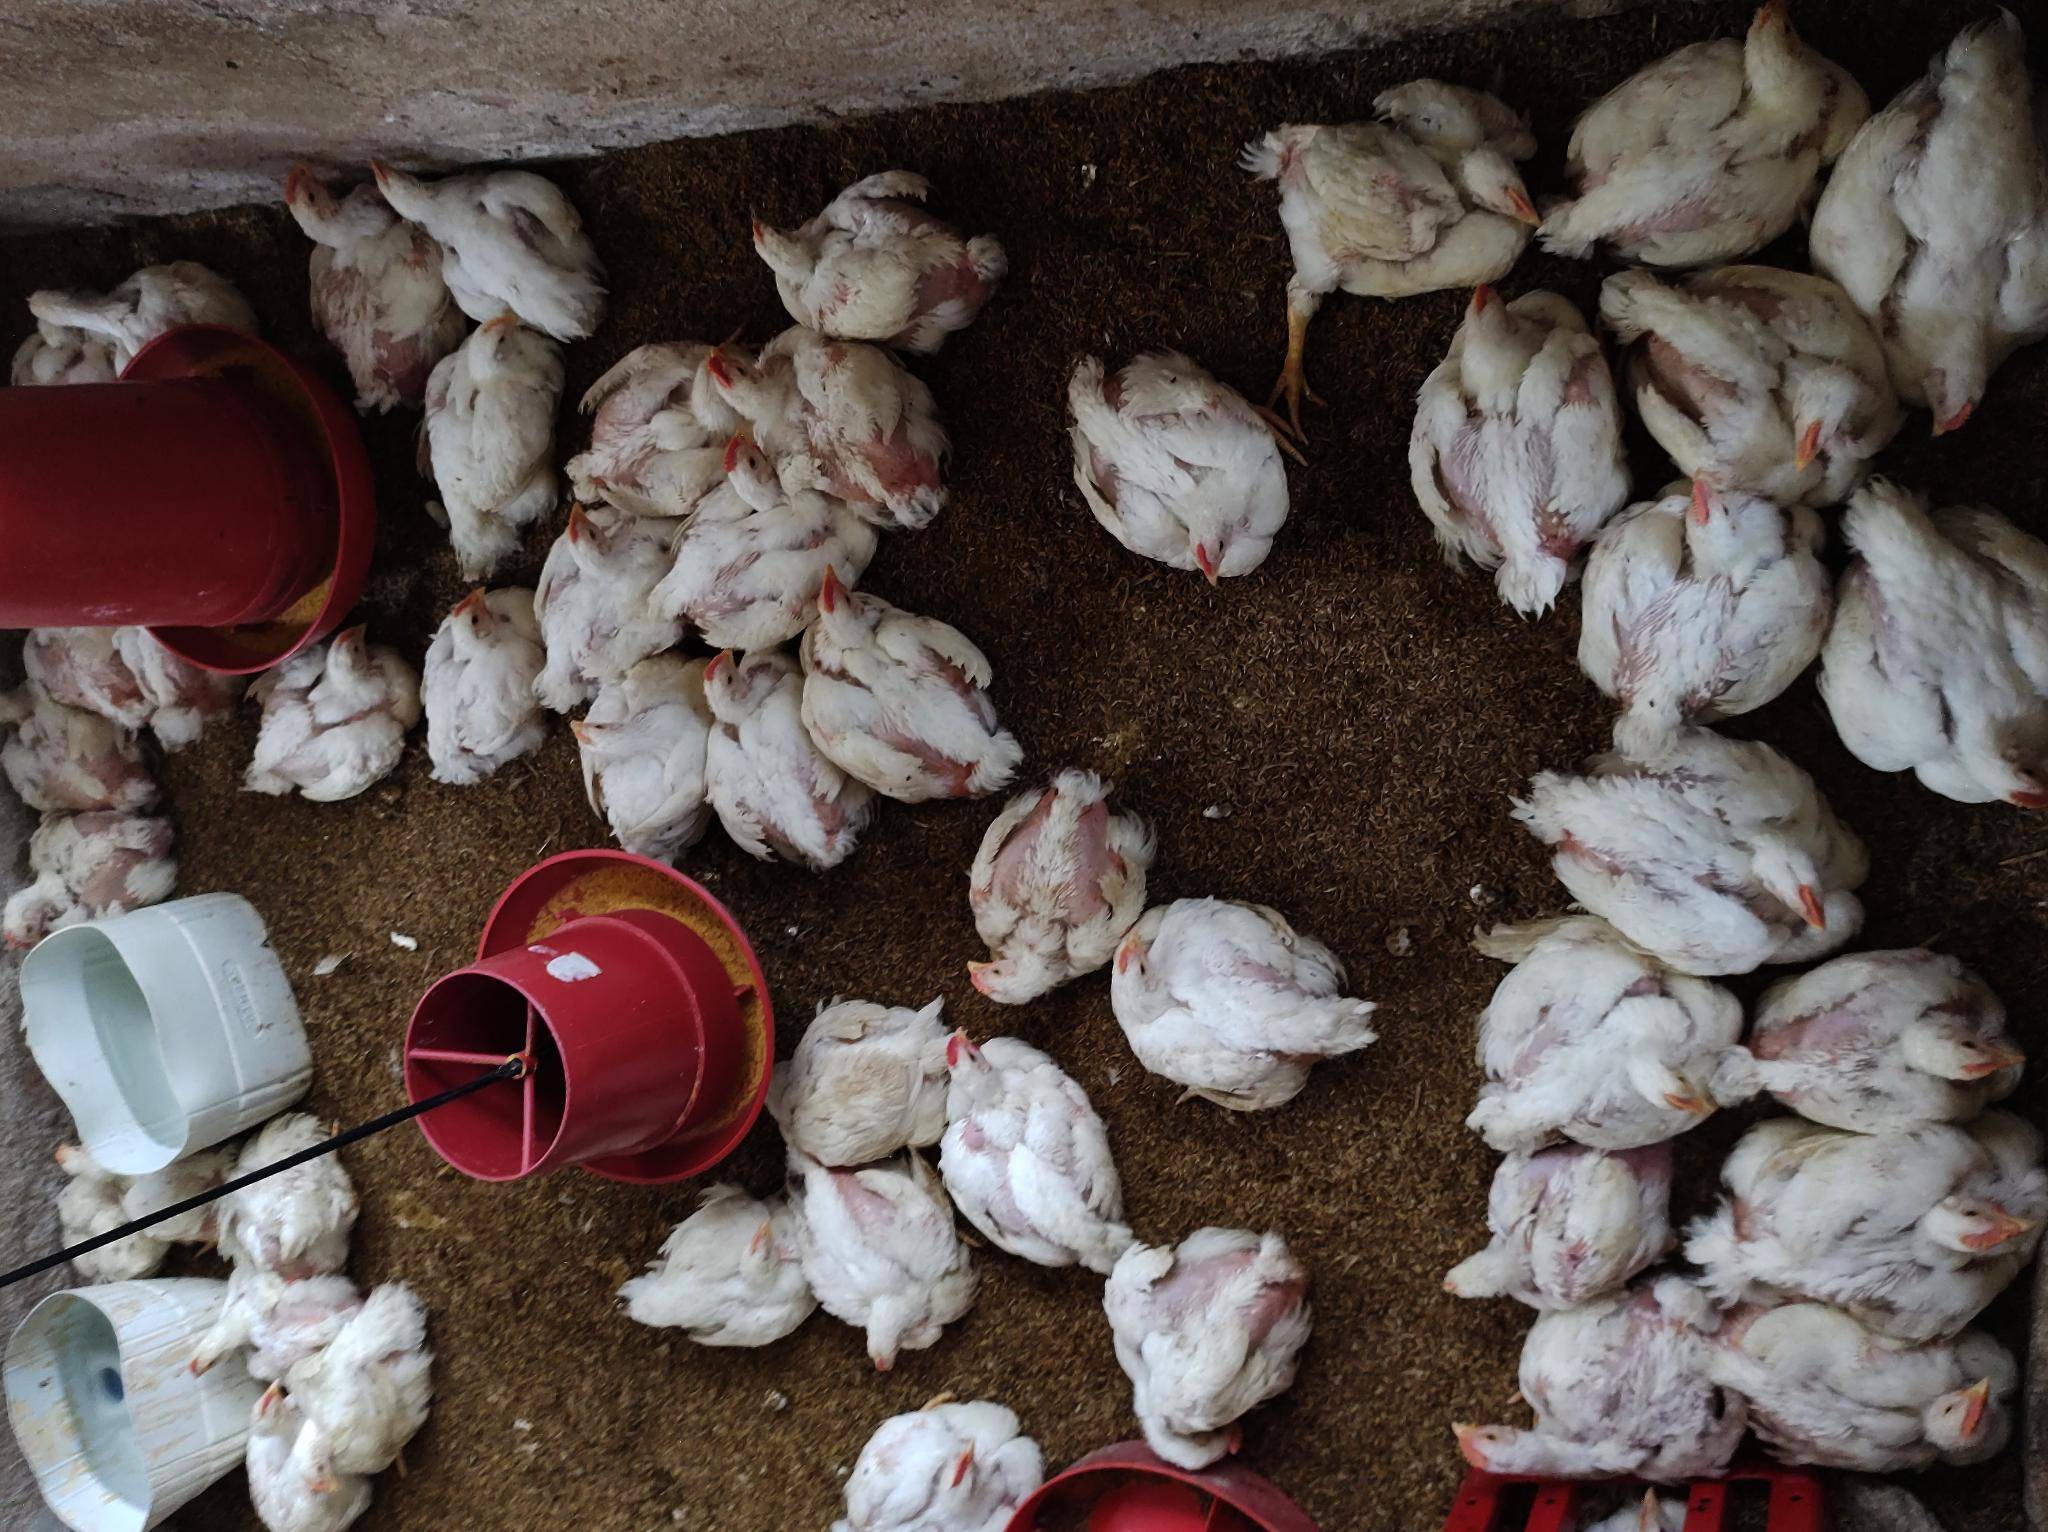Pollos: (1837, 11, 2048, 439), (1557, 8, 1889, 272), (1515, 739, 1865, 970), (1821, 476, 2048, 808), (1588, 467, 1813, 777), (1258, 68, 1546, 298), (1419, 261, 1618, 591), (1097, 888, 1385, 1107), (1462, 920, 1749, 1138), (792, 552, 1033, 808), (1618, 269, 1886, 486), (1710, 1131, 2048, 1299), (948, 752, 1158, 1015), (1091, 1217, 1302, 1479), (919, 1023, 1128, 1278), (1445, 1295, 1742, 1474), (1075, 348, 1290, 587), (706, 330, 965, 526), (740, 169, 1005, 352), (1749, 954, 2029, 1126), (365, 146, 615, 336), (1742, 1313, 2029, 1463), (275, 158, 454, 389), (792, 1152, 975, 1378), (666, 447, 872, 644), (692, 644, 872, 866), (415, 314, 563, 571), (1424, 1152, 1675, 1302), (290, 1276, 444, 1505), (766, 991, 968, 1157), (240, 618, 413, 801), (624, 1184, 811, 1353), (5, 793, 179, 966), (566, 666, 730, 846), (825, 1395, 1041, 1532), (581, 343, 755, 509), (544, 513, 706, 690), (413, 586, 561, 764), (182, 1254, 365, 1392), (18, 262, 245, 357), (224, 1106, 359, 1262), (21, 623, 198, 735), (245, 1381, 365, 1532), (3, 694, 159, 809), (51, 1138, 162, 1276)
